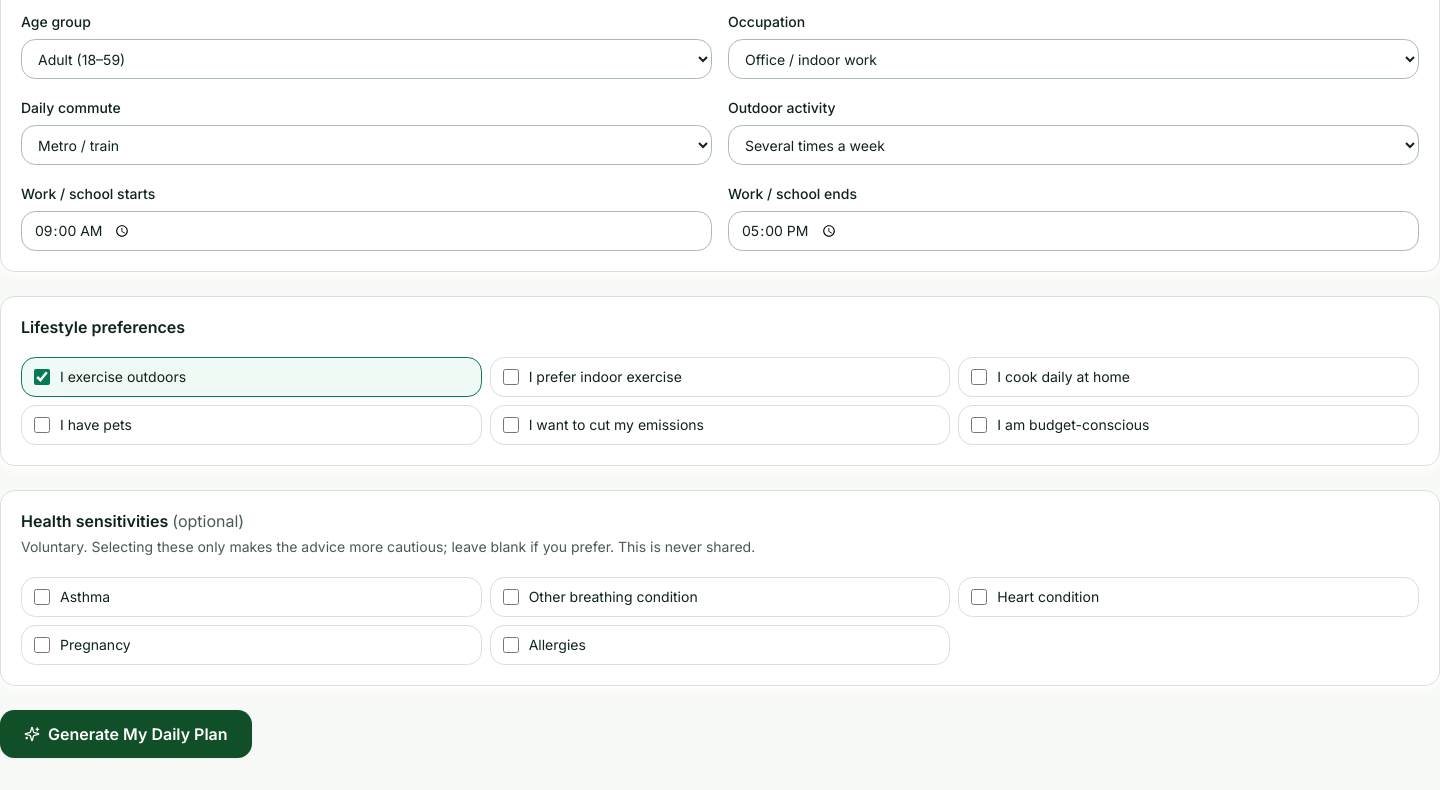
Test: Daily planner page › shows a friendly error when the API rejects the request
This screenshot has width=1440, height=790.
(page scrolled)
Step 1. Click the button "Generate My Daily Plan" → (126, 734), box left=0, top=710, right=252, bottom=758
(page scrolled)
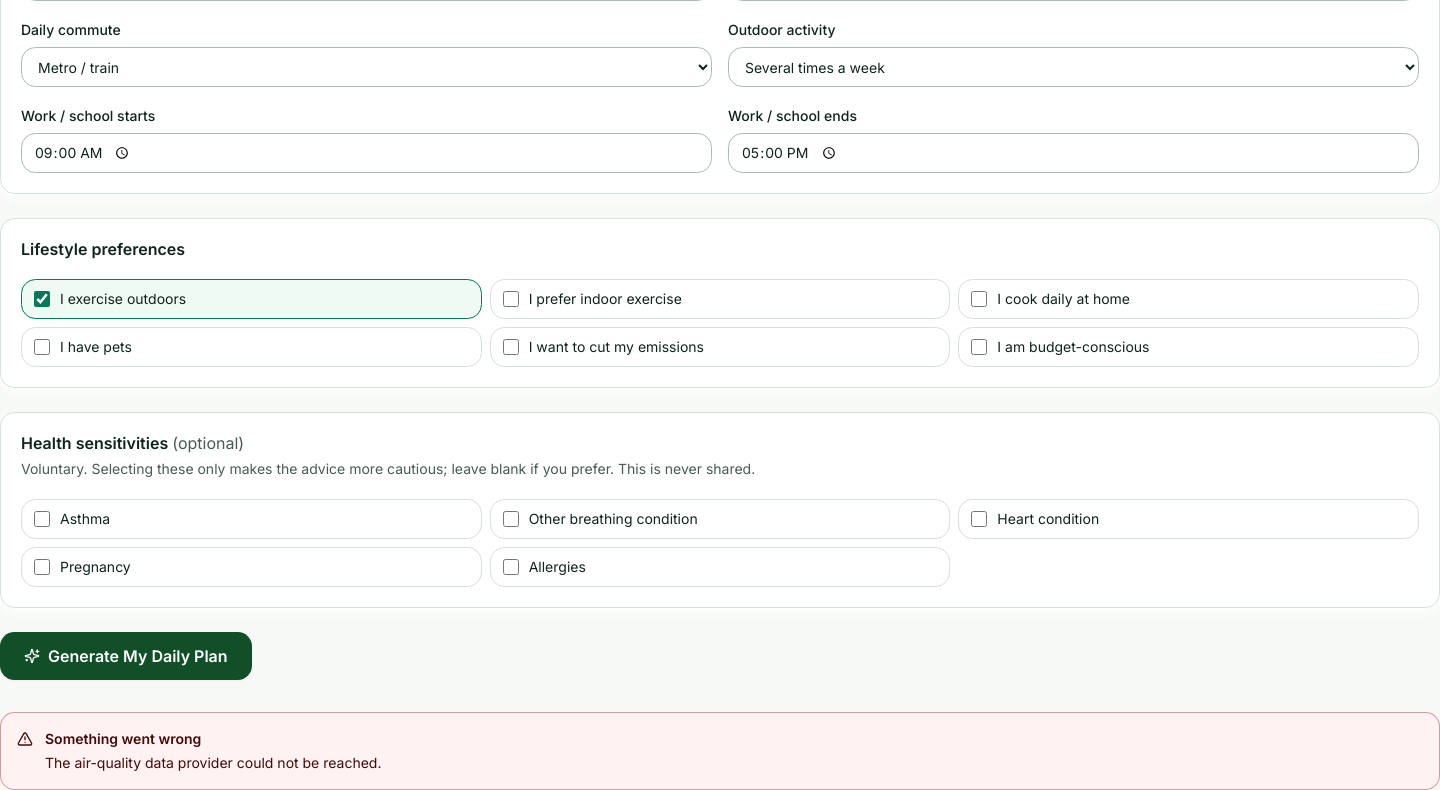
Now the message shows "could not be reached", box left=45, top=754, right=382, bottom=771
